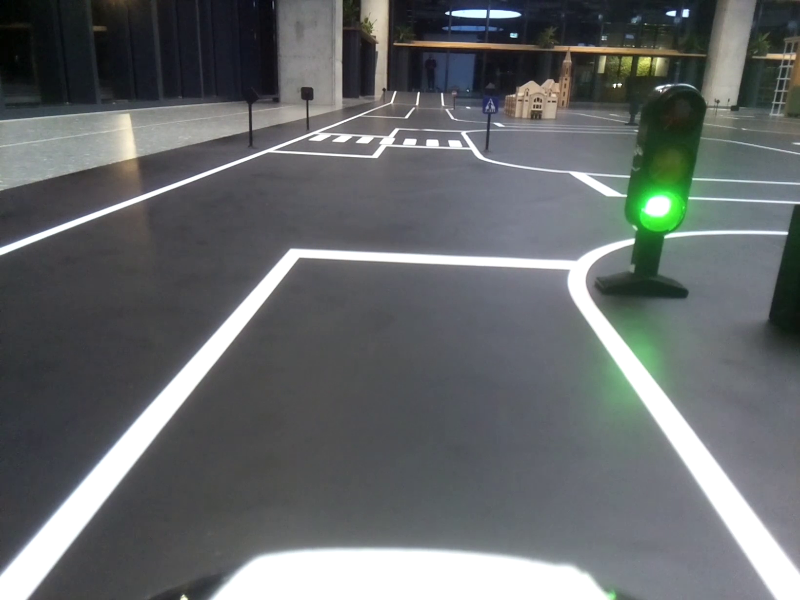traffic_green: (638, 92, 690, 232)
